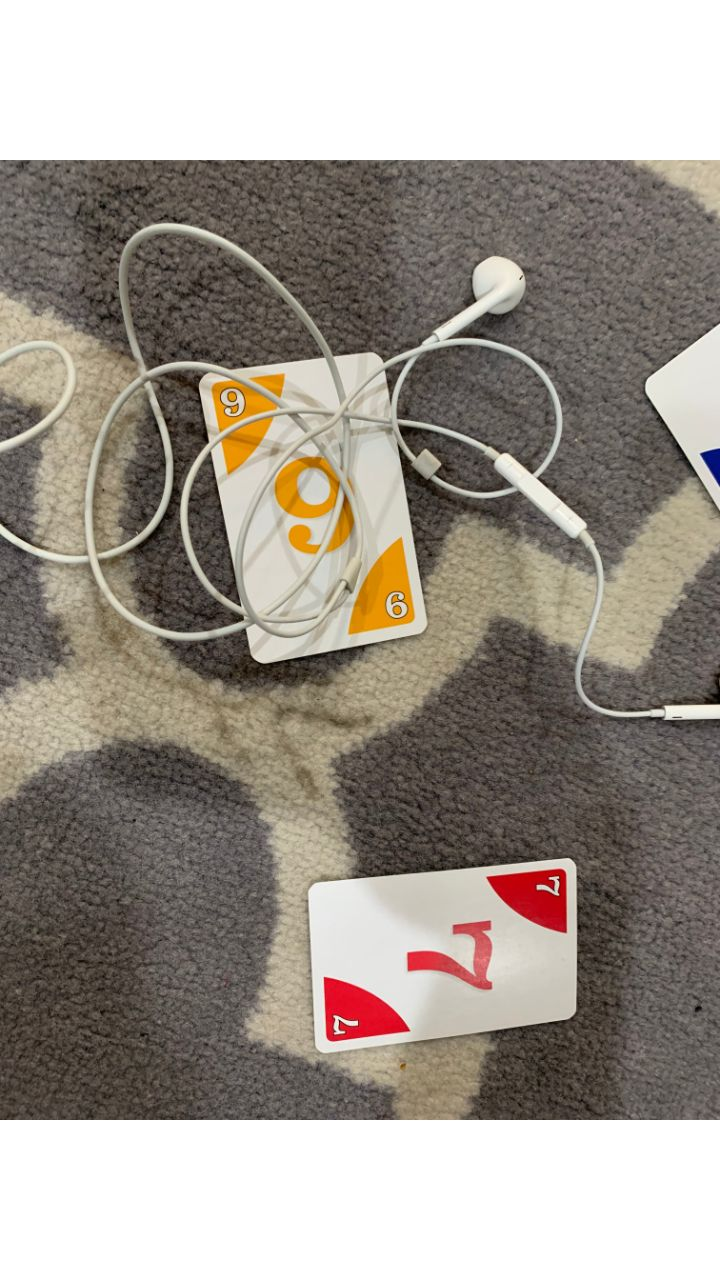nine: (196, 352, 430, 663)
